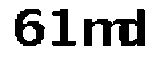1: (47, 6, 79, 50)
6: (9, 7, 48, 50)
d: (124, 8, 156, 48)
m: (76, 15, 124, 53)
